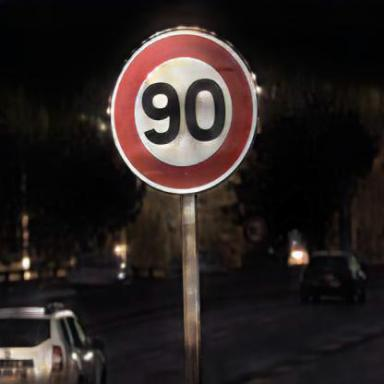Speed_limit_90: (115, 36, 254, 188)
